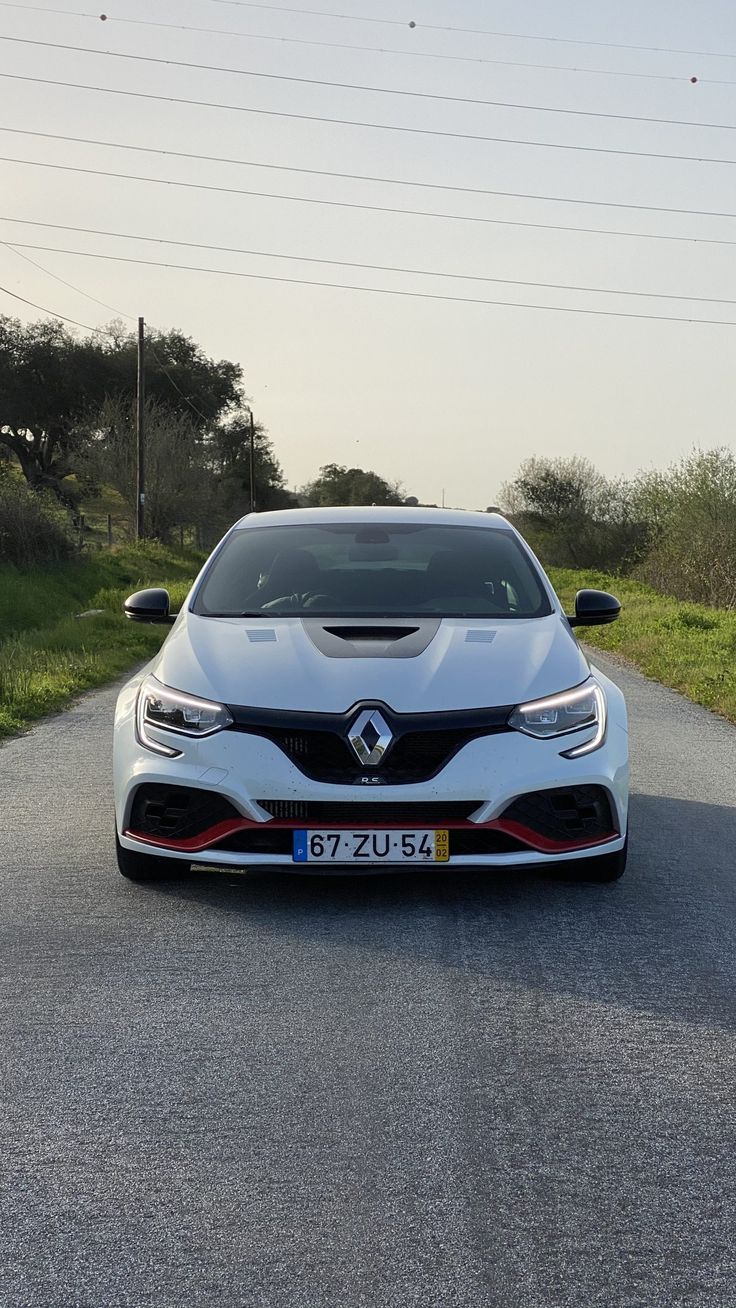plate: (287, 830, 448, 865)
